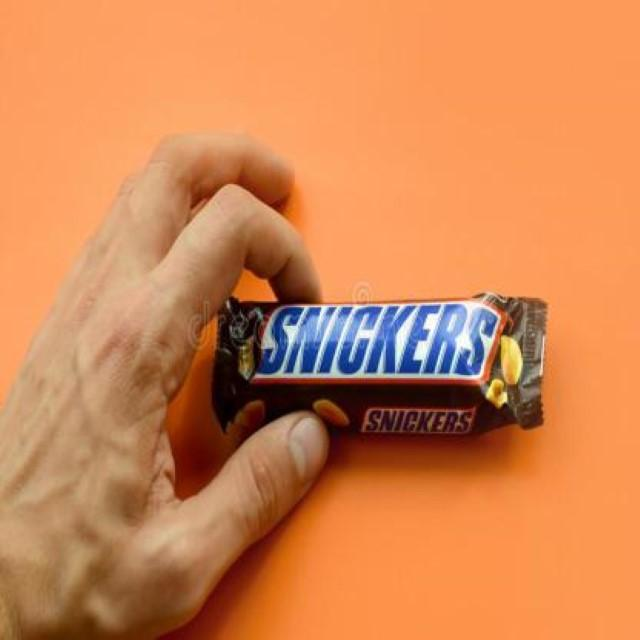snickers_chocolate: (215, 287, 552, 418)
